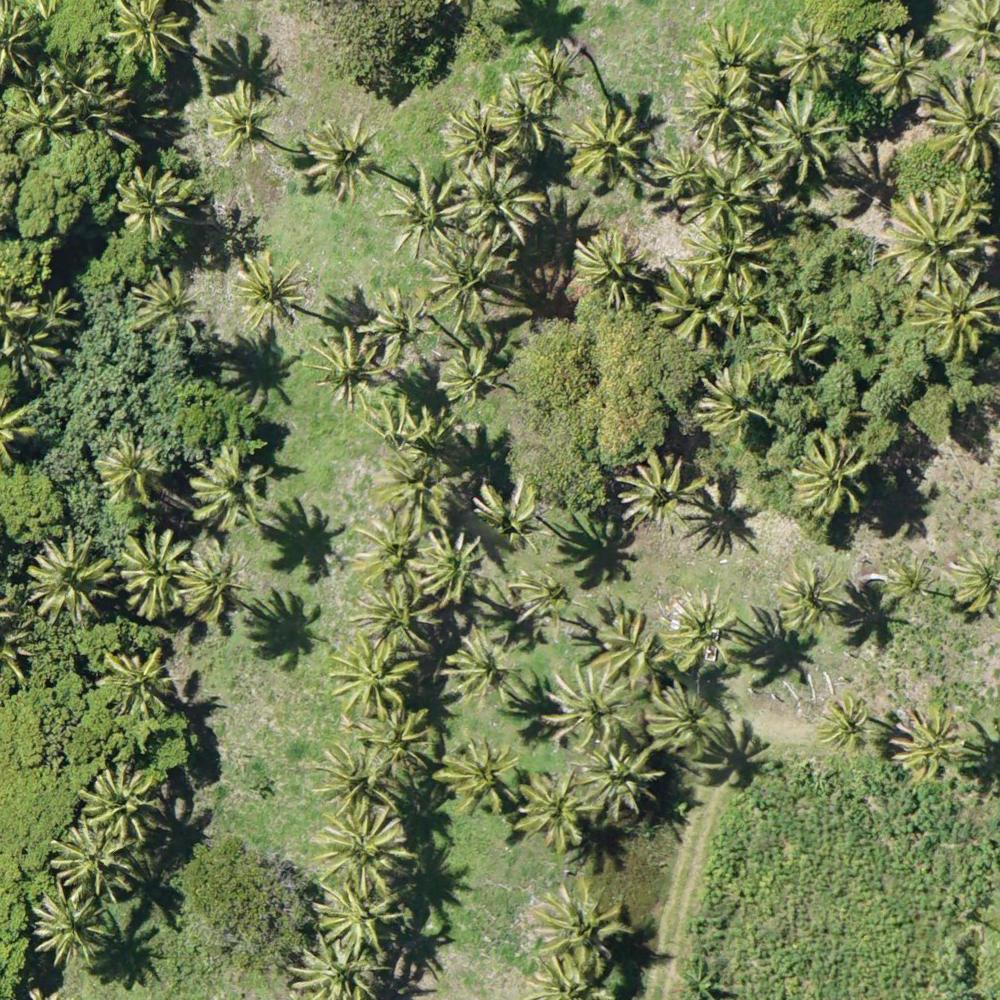Palm: (882, 190, 987, 277), (652, 260, 742, 349), (533, 880, 626, 965), (380, 162, 467, 252), (452, 159, 545, 243), (911, 273, 1000, 360), (421, 231, 509, 318), (320, 807, 409, 893), (509, 769, 601, 852), (541, 666, 634, 748), (332, 632, 416, 719), (48, 822, 138, 902), (578, 738, 664, 821), (617, 449, 702, 531), (319, 742, 403, 824), (29, 535, 107, 622), (304, 114, 381, 202), (187, 445, 264, 533), (680, 214, 770, 289), (930, 74, 1000, 170), (758, 96, 839, 177), (370, 442, 453, 521), (566, 227, 645, 309), (349, 508, 432, 586), (233, 249, 308, 335), (314, 875, 401, 949), (696, 364, 775, 445), (29, 884, 109, 963), (82, 764, 163, 842), (570, 101, 647, 183), (107, 1, 190, 76), (793, 430, 870, 510), (119, 529, 195, 610), (313, 324, 388, 406), (349, 579, 436, 649), (96, 649, 174, 725), (485, 76, 563, 152), (892, 709, 971, 783), (441, 736, 518, 811), (133, 262, 204, 343), (406, 525, 479, 602), (364, 284, 432, 365), (445, 631, 519, 705), (859, 32, 933, 106), (441, 100, 514, 175), (111, 163, 188, 234), (293, 935, 377, 1000), (431, 335, 509, 405), (475, 474, 550, 546), (208, 82, 278, 159), (95, 428, 165, 505), (8, 80, 78, 156), (667, 591, 736, 668), (643, 681, 718, 751), (681, 73, 756, 143), (178, 544, 245, 621), (513, 43, 587, 112), (356, 704, 431, 771), (757, 305, 829, 374), (776, 14, 848, 83), (509, 565, 578, 633), (777, 565, 844, 632), (814, 693, 874, 755), (652, 142, 709, 205), (883, 551, 939, 613)
